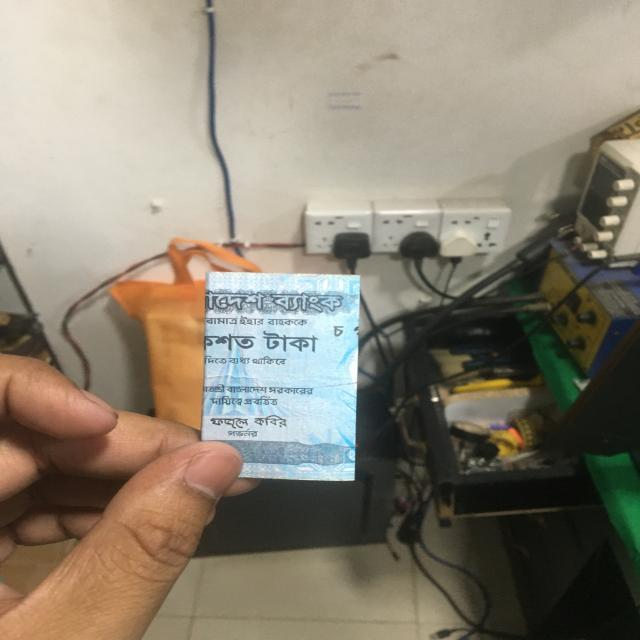Taka: (200, 271, 360, 484)
